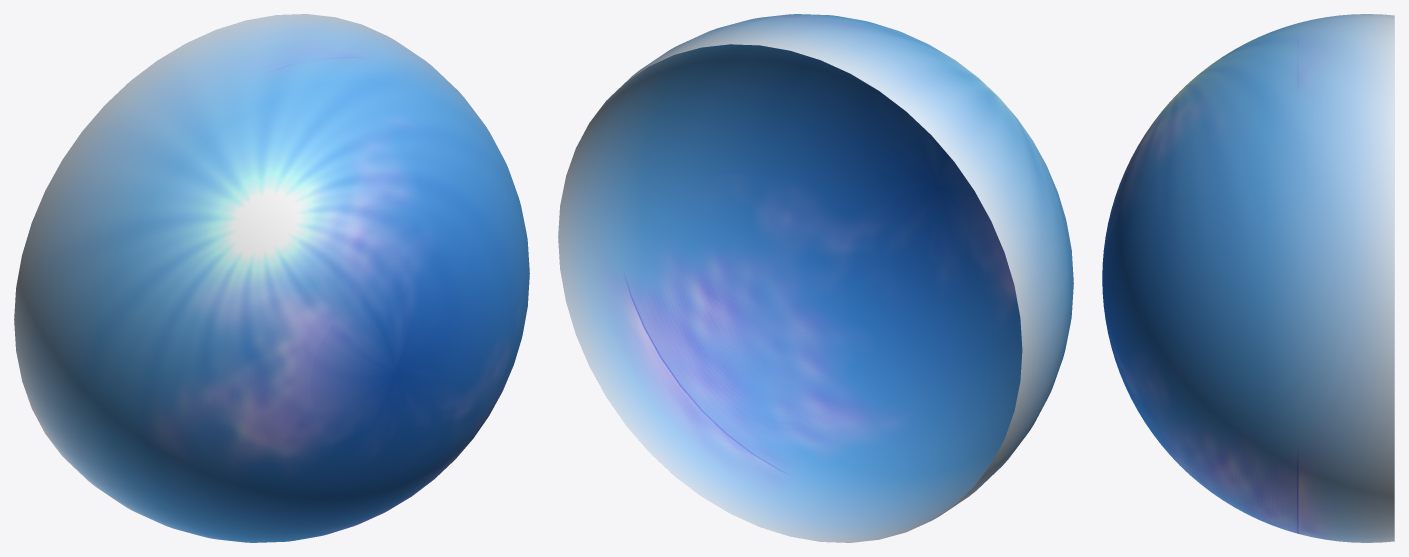
File: sky_dome.obj
3 renders of one model, left to right at view 1: azimuth 30°, elevation 25°; view 2: azimuth 150°, elevation 25°; view 3: azimuth 270°, elevation 25°, orthographic.
Bounding box in the file's own units: 440 × 440 × 243.
1 material, 1 textured.
